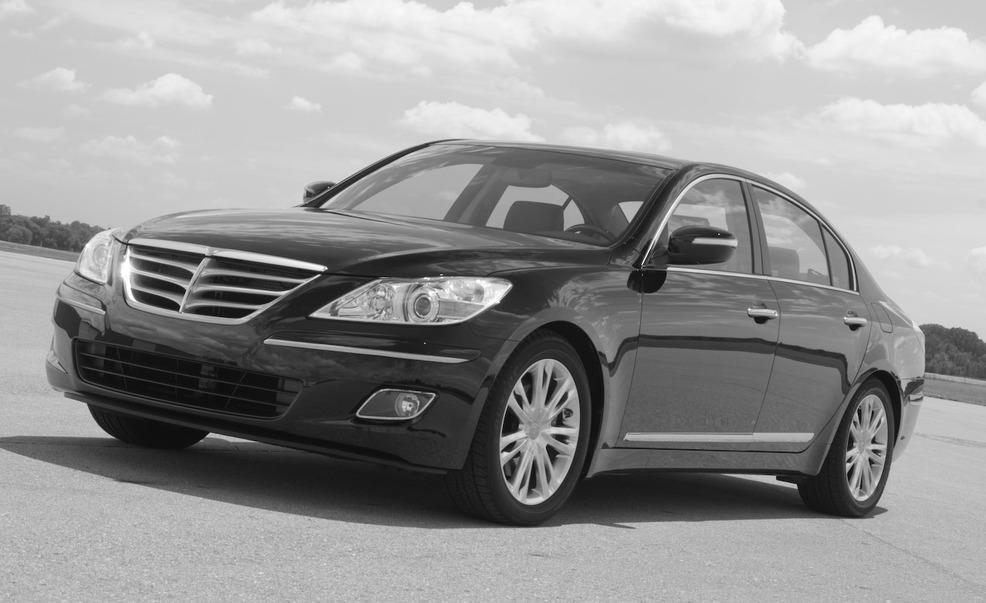car: (51, 138, 926, 525)
